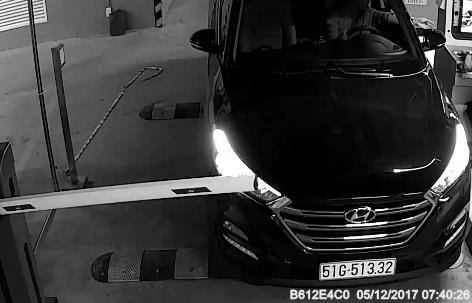License-plate: (316, 252, 401, 284)
